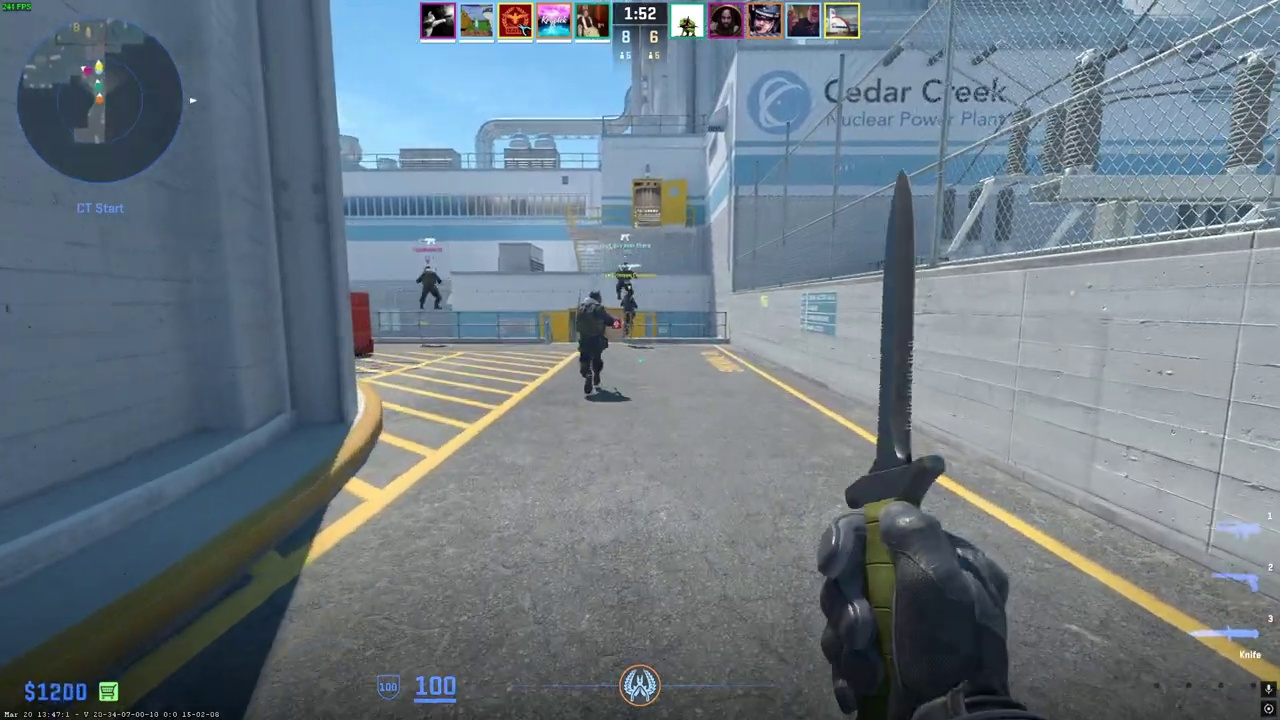CT: (573, 289, 614, 397), (418, 265, 444, 311), (617, 259, 633, 296), (623, 294, 637, 332)
